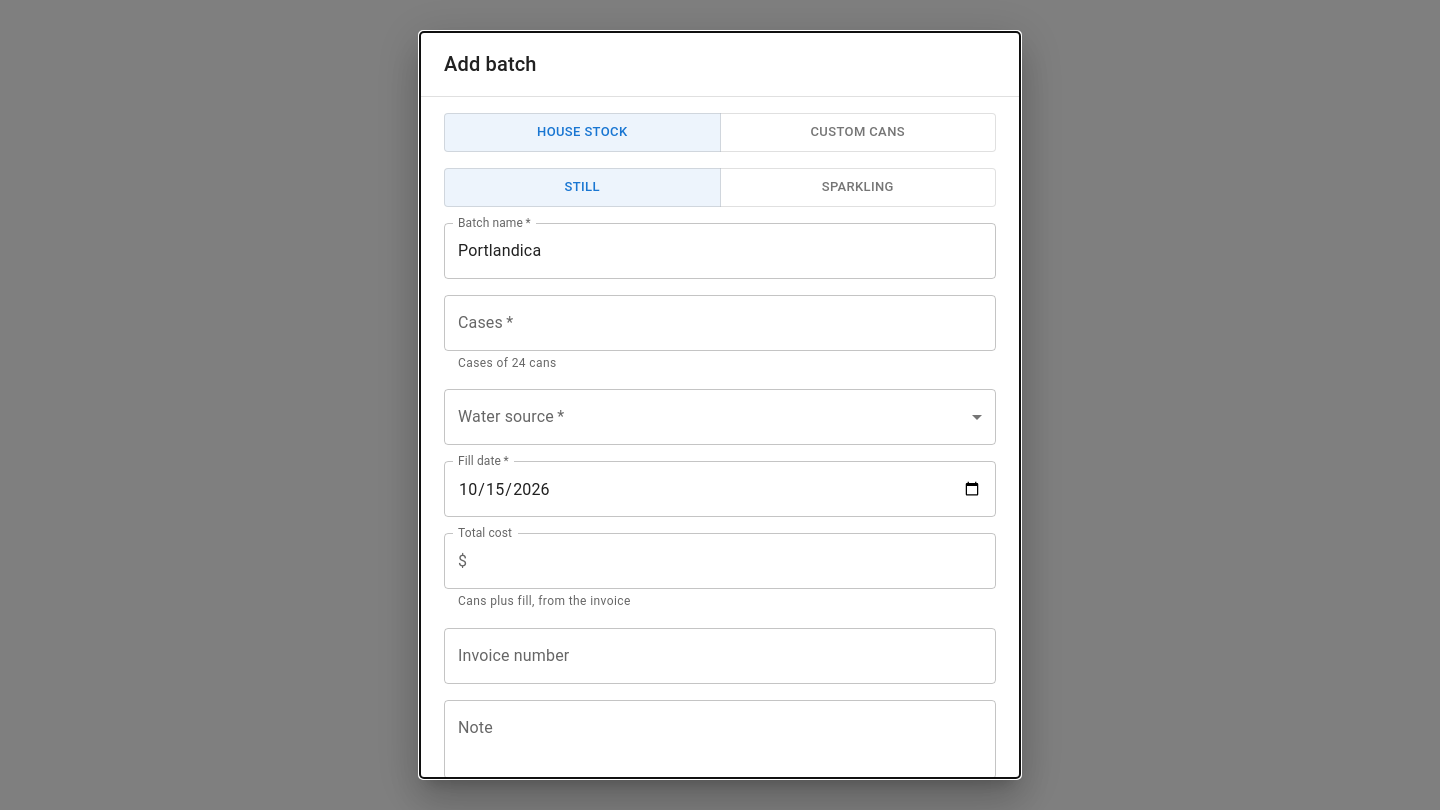
Scenario: Add batch › keeps the dialog open with the reason when the batch is not added
This screenshot has width=1440, height=810.
In the field labelled "Cases *": (720, 322) [444, 294, 996, 350], type "10"
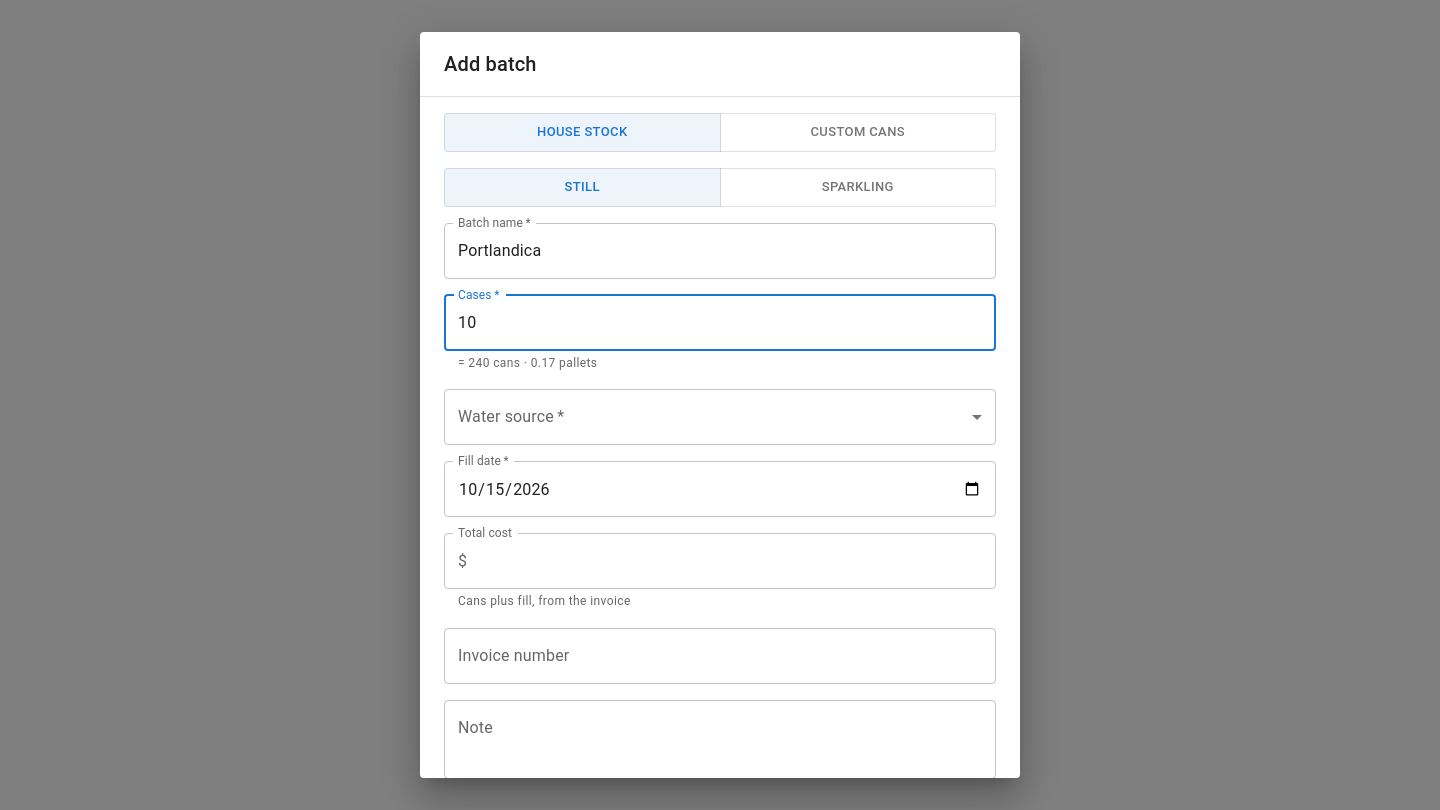
Click the dropdown named "water source": (720, 417) [444, 389, 996, 445]
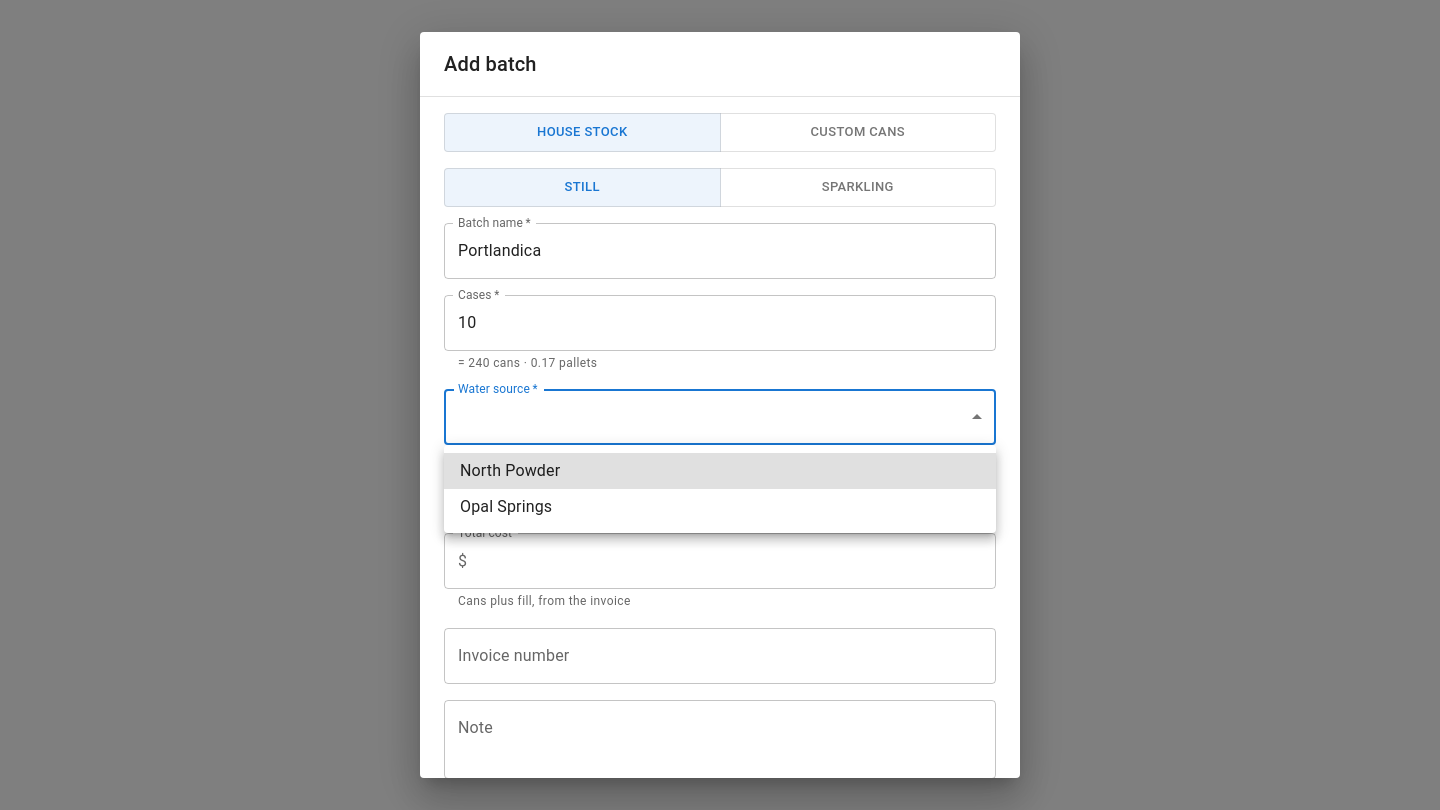
Click the option "North Powder": (510, 470) [444, 453, 996, 489]
(page scrolled)
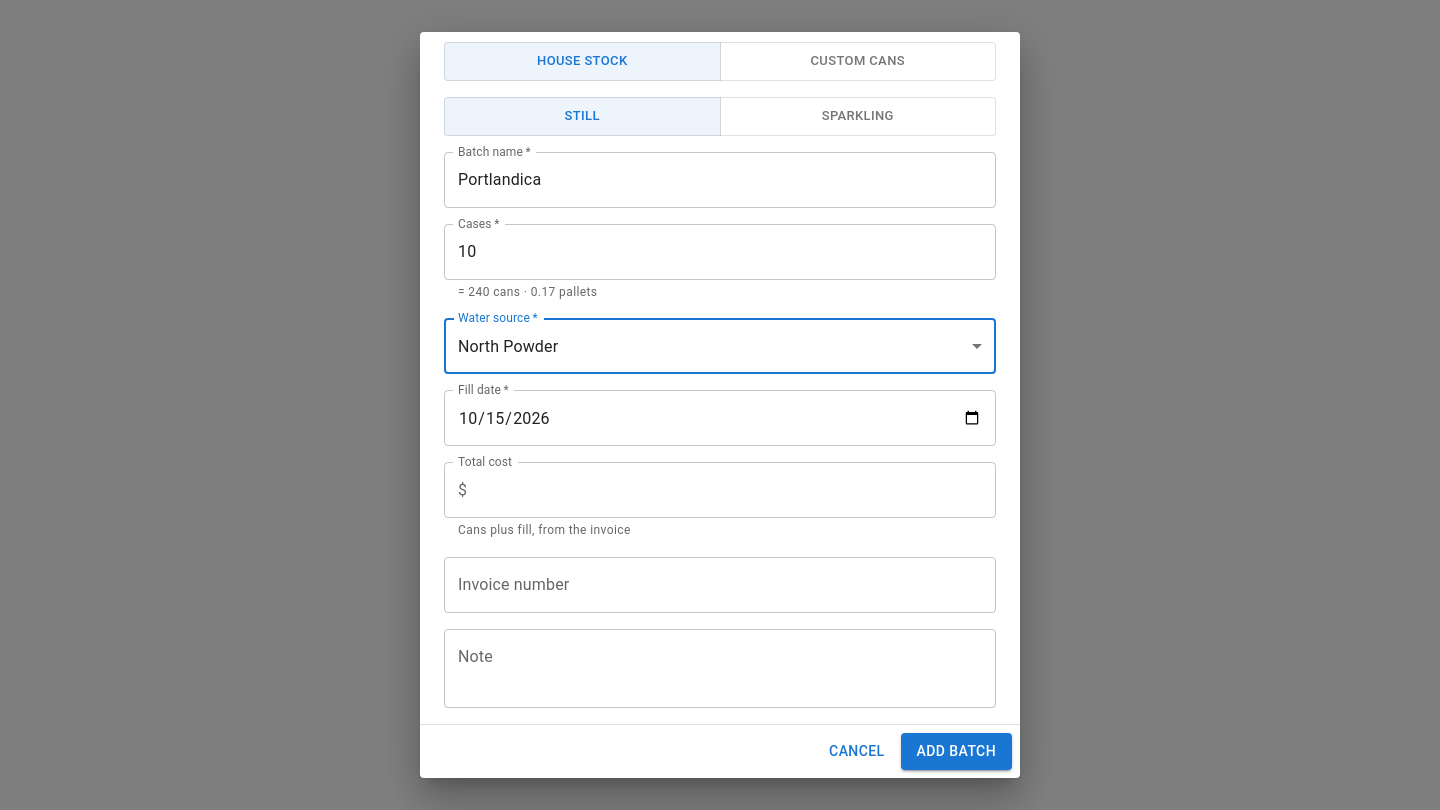
Click the button "Add batch": (956, 752) [900, 733, 1012, 770]
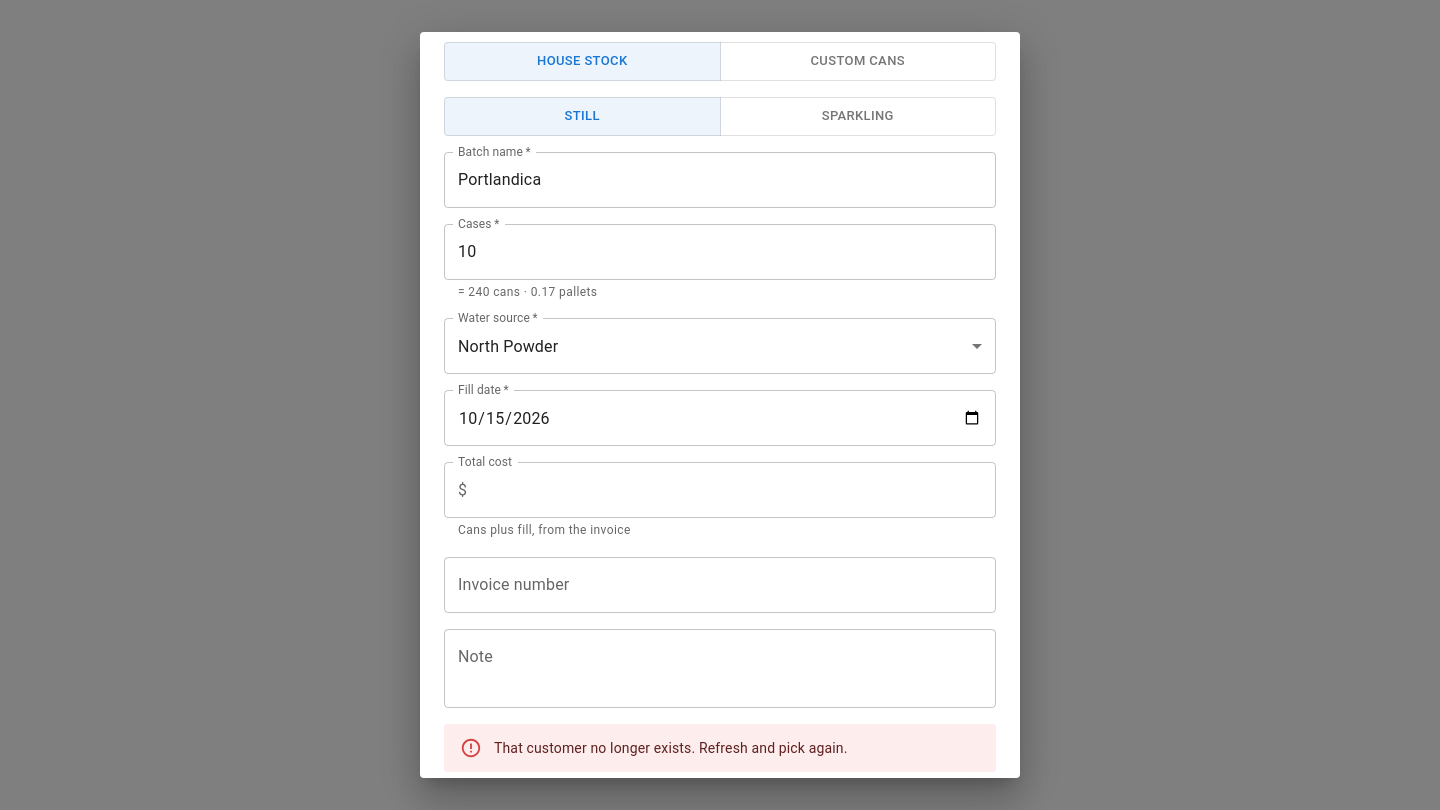
Check: the text "That customer no longer exists. Refresh and pick again." is shown, box [494, 740, 848, 756]
